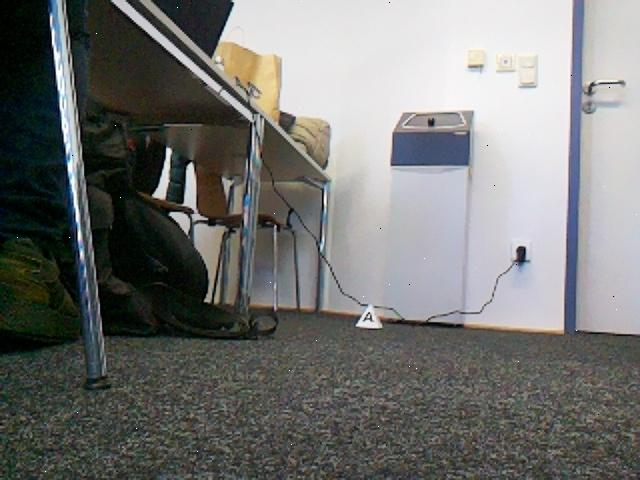A: (356, 305, 382, 327)
